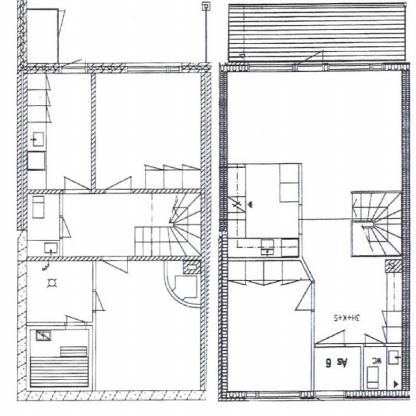door: (228, 72, 402, 342), (96, 259, 202, 390), (94, 73, 199, 189), (228, 259, 316, 390), (25, 1, 204, 61), (230, 3, 406, 61), (61, 194, 200, 254), (28, 72, 92, 187), (27, 261, 92, 322), (29, 330, 87, 385), (29, 195, 60, 254), (316, 348, 360, 388), (364, 344, 402, 388)
window: (296, 280, 318, 314), (104, 176, 135, 197), (298, 48, 325, 70), (101, 255, 129, 274), (318, 329, 346, 348), (63, 176, 92, 194), (58, 216, 74, 242), (57, 10, 72, 37), (66, 314, 91, 330), (90, 290, 105, 312), (364, 334, 383, 346)
zone: (124, 62, 180, 74), (250, 61, 294, 72), (244, 391, 301, 399), (329, 65, 384, 72), (60, 63, 89, 74), (313, 390, 344, 397)
